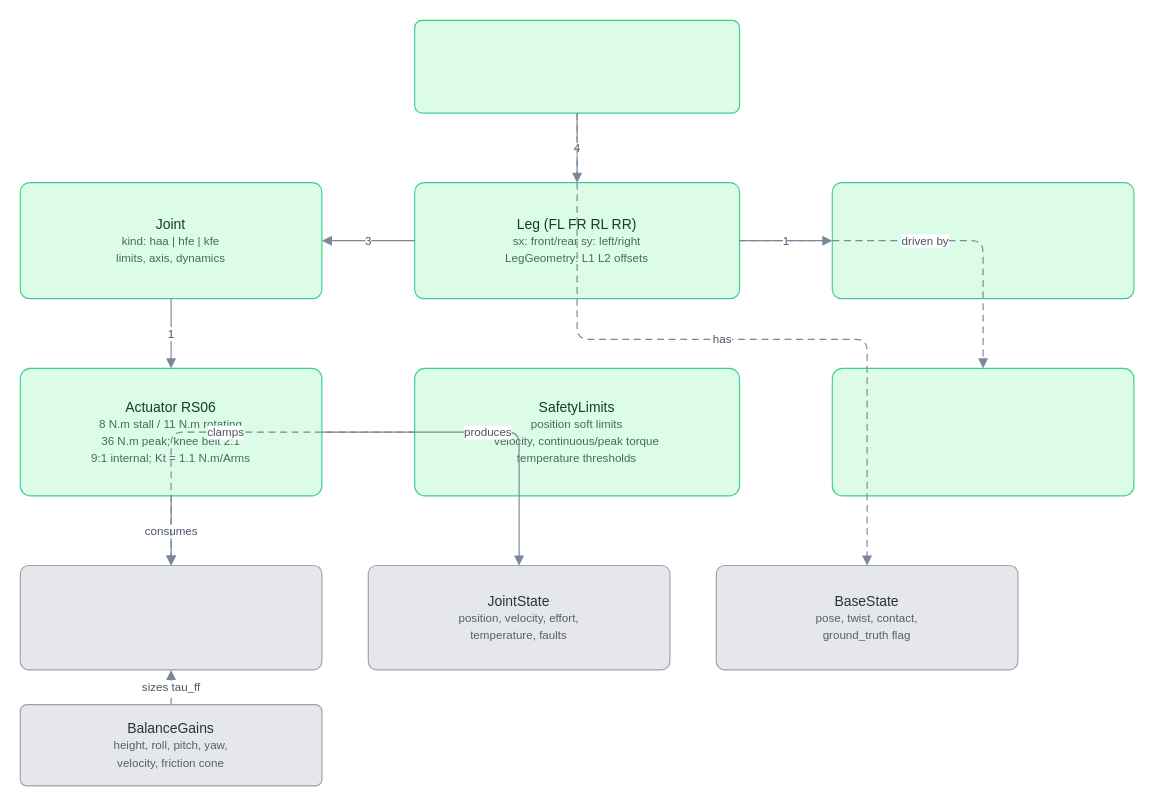
The diagram is 1154 pixels wide and 806 high, and some of its shapes have lost their labels. The shapes that lost their labels are listed below. From the top down, each one's box as (x1, y1, x2, y2) in pixels, then its label:
(414, 19, 740, 113): Robot 12 joints, 4 legs 19.72 kg, base_link
(831, 182, 1134, 299): Foot 20 mm contact sphere contact, normal force
(831, 367, 1134, 496): GaitParams gait, frequency, duty, step height, stance height, velocity
(19, 564, 322, 670): JointCommand mode, position, velocity, effort, kp, kd
